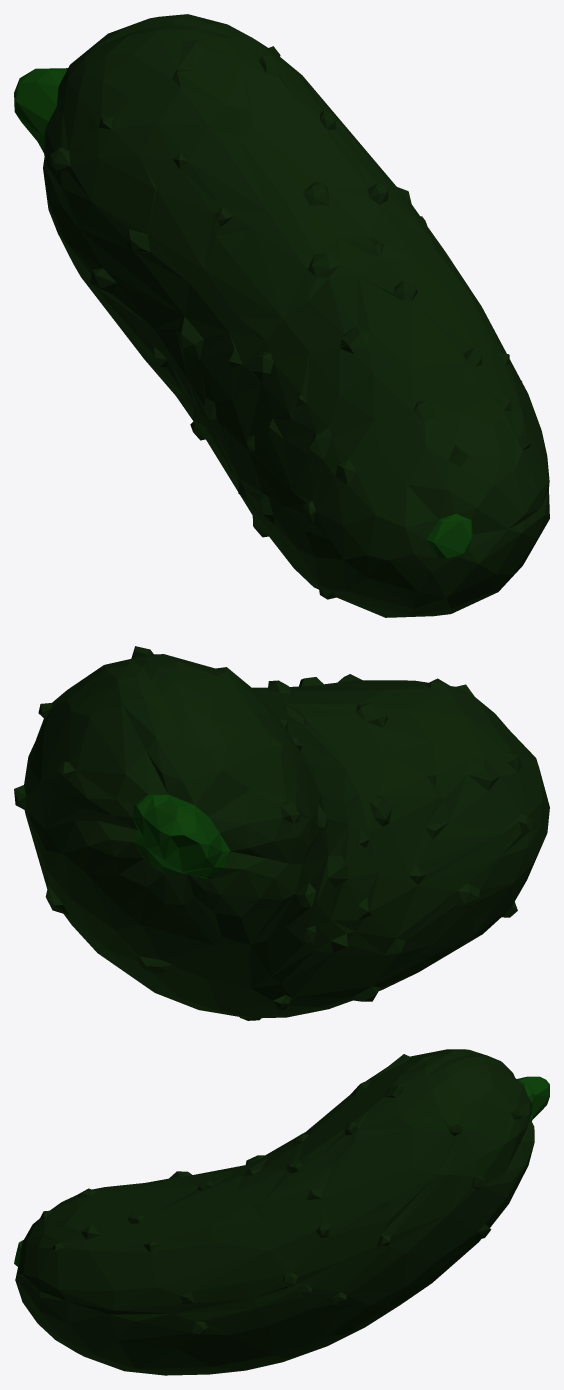
The model's file is Cucumber_lowpoly.obj.
3 renders of one model, top to bottom at view 1: azimuth 30°, elevation 25°; view 2: azimuth 150°, elevation 25°; view 3: azimuth 270°, elevation 25°, orthographic. The views are drawn at different scales.
Visible parts, largest first — view 1: Mesh1.0; view 2: Mesh1.0; view 3: Mesh1.0.
Boxes of the visible parts, left/top/right/bottom form: Mesh1.0: left=14, top=14, right=549, bottom=617; Mesh1.0: left=14, top=646, right=549, bottom=1020; Mesh1.0: left=14, top=1049, right=549, bottom=1375.
Size of the model in its own units: 0.6209 by 0.8411 by 1.34.
